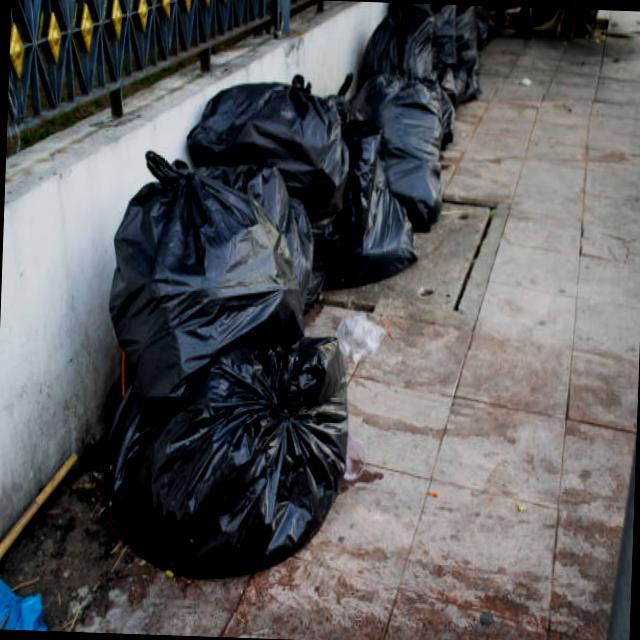garbage: (97, 45, 450, 582)
